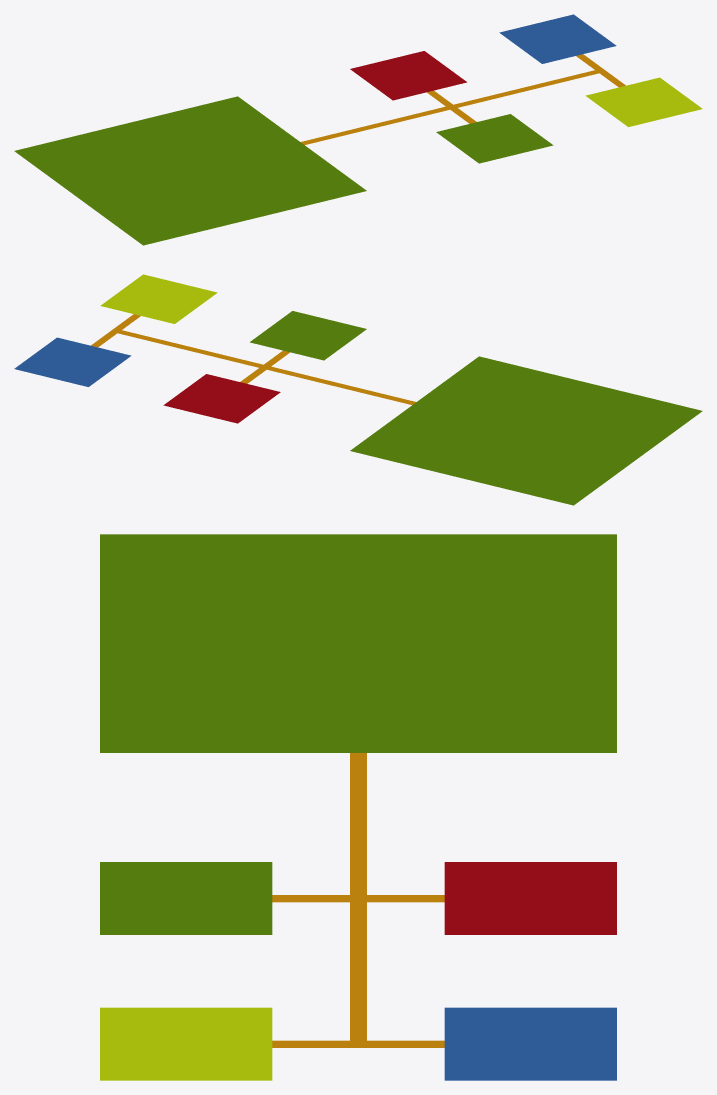
Rendered from 476map.fbx.
3 views of the same model, one above another, from view 1: azimuth 30°, elevation 25°; view 2: azimuth 150°, elevation 25°; view 3: azimuth 270°, elevation 25° (orthographic). The views are drawn at different scales.
Visible parts, largest first — view 1: Plane_008, Plane_002, Plane_001, Plane_003, Plane, Plane_007, Plane_006; view 2: Plane_008, Plane_002, Plane_001, Plane_003, Plane, Plane_007, Plane_006; view 3: Plane_008, Plane_002, Plane_001, Plane_003, Plane, Plane_007, Plane_006, Plane_005, Plane_004.
Boxes of the visible parts, left/top/right/bottom form: Plane_008: left=14, top=96, right=366, bottom=245; Plane_002: left=499, top=14, right=616, bottom=63; Plane_001: left=585, top=77, right=702, bottom=126; Plane_003: left=350, top=51, right=466, bottom=100; Plane: left=436, top=114, right=553, bottom=163; Plane_007: left=300, top=105, right=453, bottom=144; Plane_006: left=453, top=70, right=598, bottom=107; Plane_008: left=350, top=356, right=702, bottom=505; Plane_002: left=14, top=337, right=131, bottom=386; Plane_001: left=100, top=274, right=217, bottom=323; Plane_003: left=163, top=374, right=280, bottom=423; Plane: left=250, top=311, right=366, bottom=360; Plane_007: left=263, top=365, right=416, bottom=404; Plane_006: left=118, top=330, right=263, bottom=367; Plane_008: left=100, top=534, right=616, bottom=752; Plane_002: left=444, top=1007, right=616, bottom=1080; Plane_001: left=100, top=1007, right=272, bottom=1080; Plane_003: left=444, top=862, right=616, bottom=934; Plane: left=100, top=862, right=272, bottom=934; Plane_007: left=350, top=753, right=366, bottom=898; Plane_006: left=350, top=902, right=366, bottom=1040; Plane_005: left=272, top=1040, right=444, bottom=1047; Plane_004: left=272, top=895, right=444, bottom=902.
Bounding box in the file's own units: 750 × 4.89e-05 × 300.
